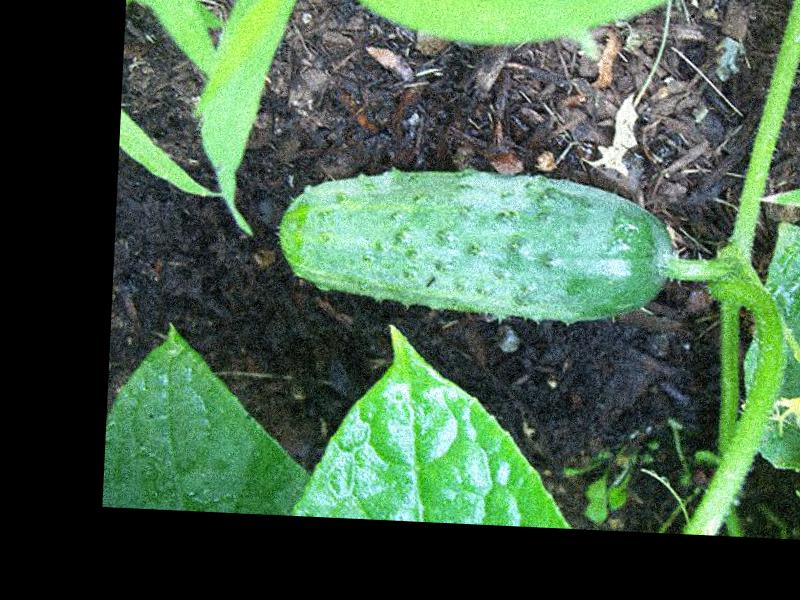Cucumber: (271, 160, 676, 326)
